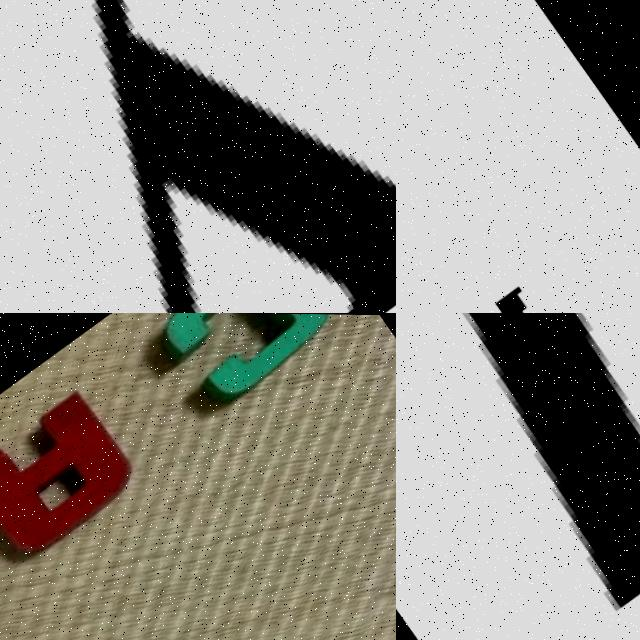1: (396, 313, 640, 621)
A: (0, 390, 150, 572)
C: (143, 313, 346, 417)
Y: (0, 0, 396, 313)
Z: (396, 0, 640, 313)
